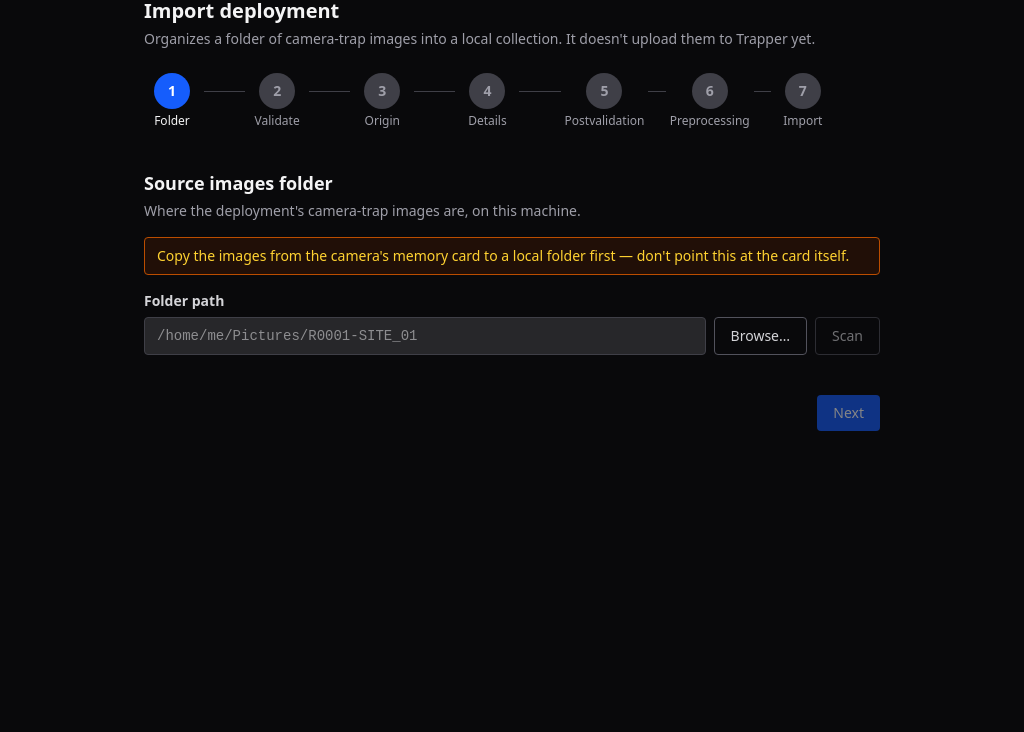
Test case: ImportDeploymentPage › where the images were taken › adding a research project by hand › asks for the fields of Trapper's "Add research project" form
Type "/home/me/deployments/DONA_01" into the field labelled "Folder path".
click(425, 336); type("/home/me/deployments/DONA_01")  # box [144, 317, 706, 355]
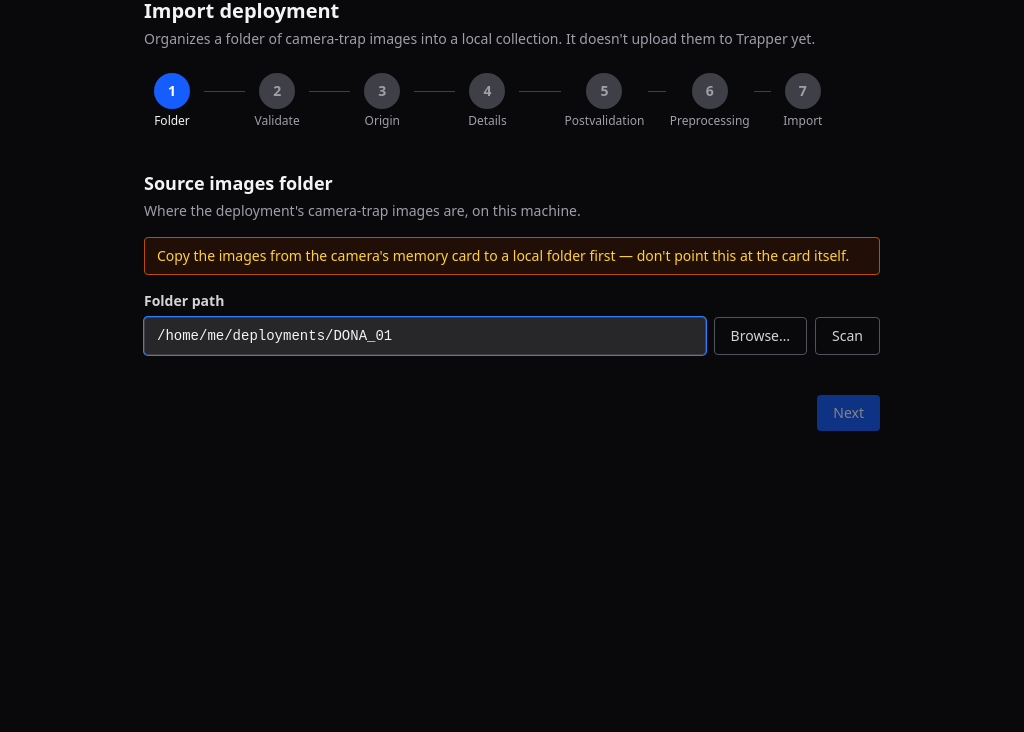
Click the button "Scan".
click(848, 336)  # box [815, 317, 880, 355]
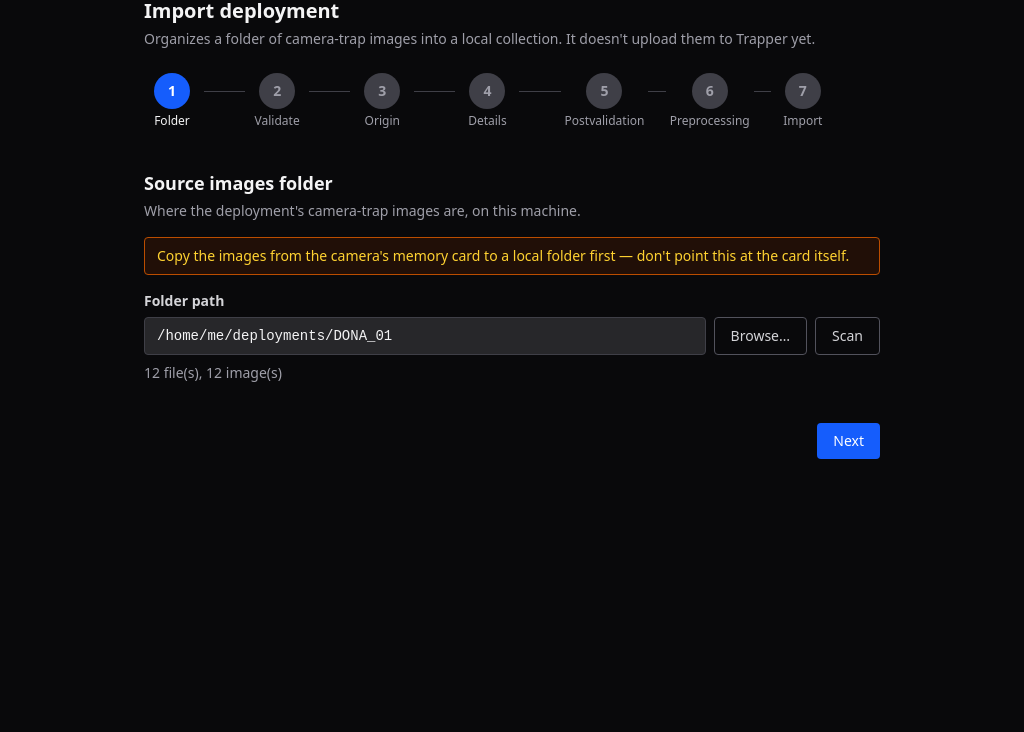
Expected: the text "12 file(s), 12 image(s)" is shown, [144, 363, 282, 382]
Click the button "Next".
click(849, 441)  # box [817, 423, 880, 459]
(page scrolled)
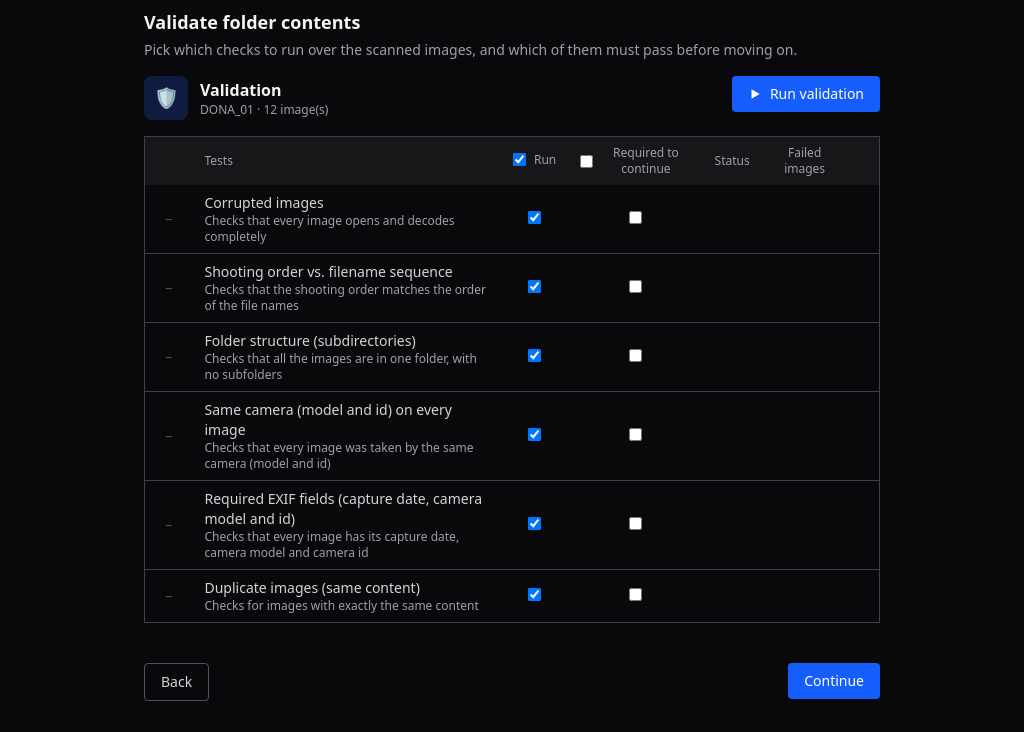
Expected: the heading "Validate folder contents" is shown, [144, 10, 360, 34]
Click the button "Continue".
click(834, 681)  # box [788, 663, 880, 699]
(page scrolled)
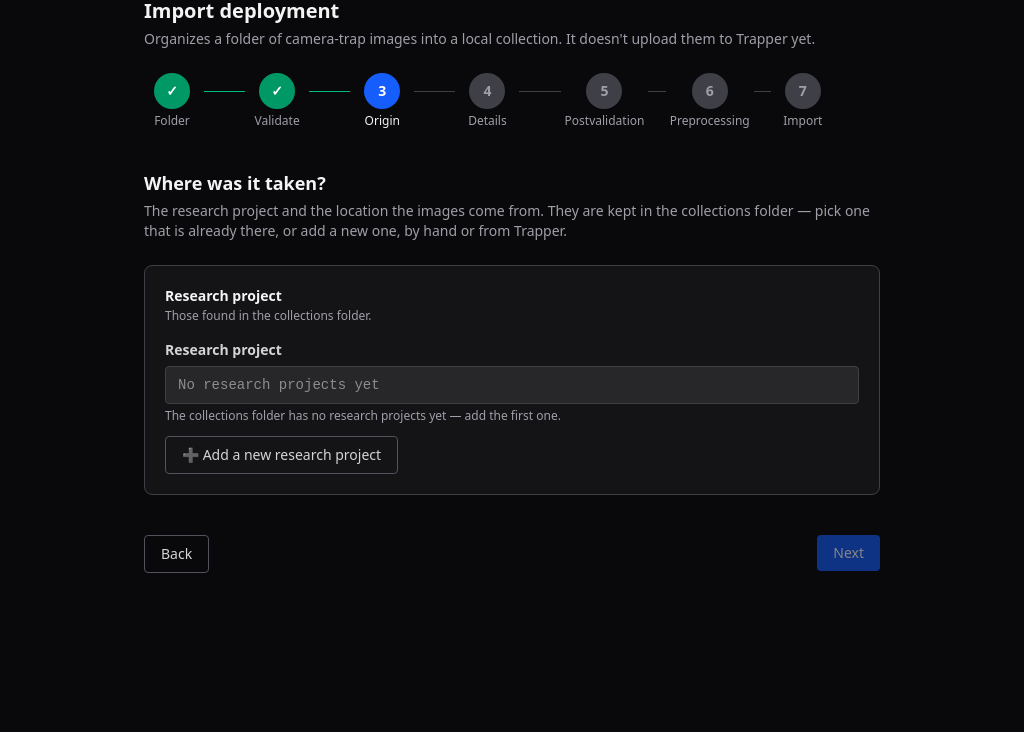
Expected: the heading "Where was it taken?" is shown, [144, 171, 326, 195]
Click the button "➕ Add a new research project".
click(282, 455)  # box [165, 436, 398, 474]
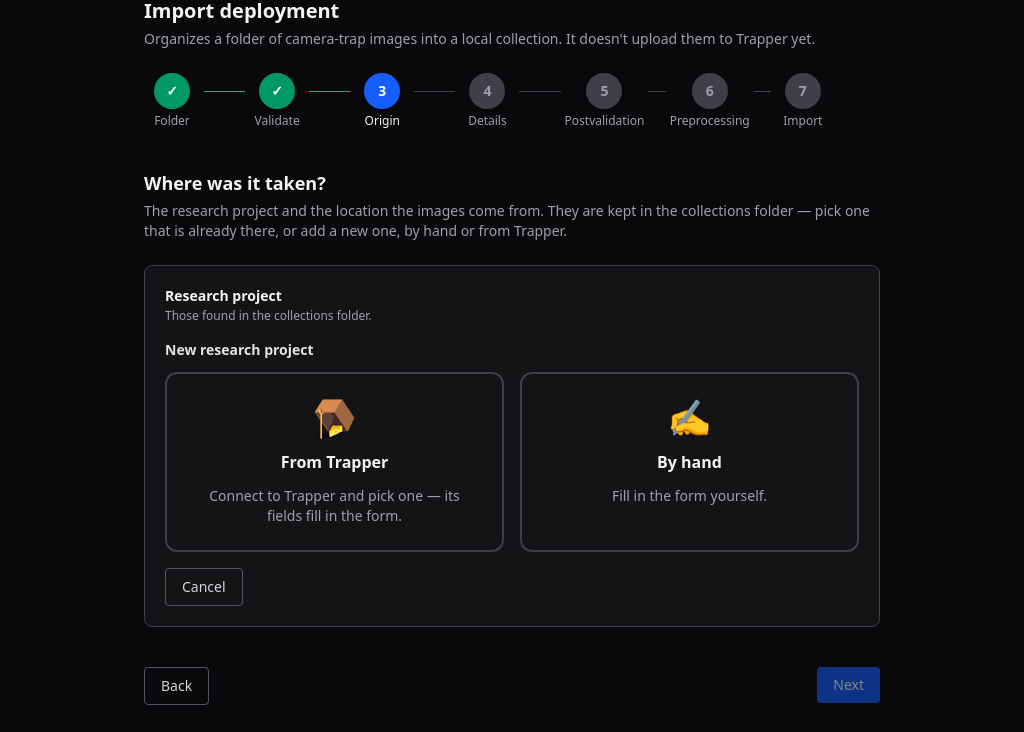
Click the button "✍️ By hand Fill in the form yourself.".
click(690, 462)  # box [520, 372, 859, 552]
(page scrolled)
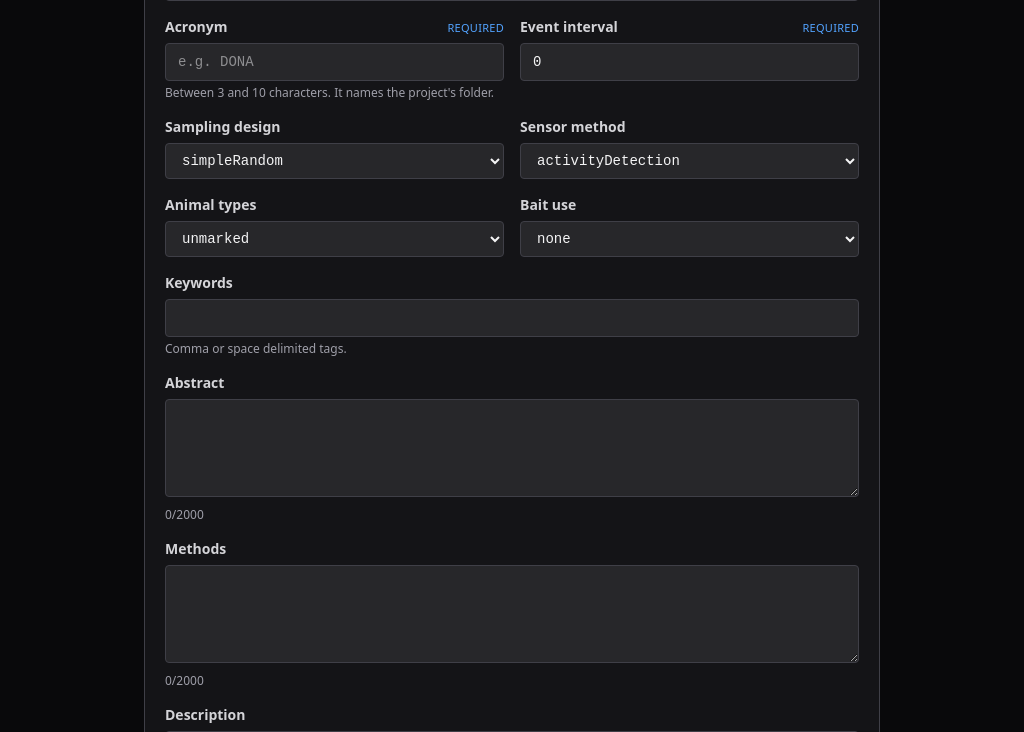
Expected: the field labelled "Acronym" is shown, [165, 43, 504, 81]
Expected: the dropdown labelled "Sensor method" is shown, [520, 143, 859, 179]
Expected: the dropdown labelled "Animal types" is shown, [165, 221, 504, 257]
